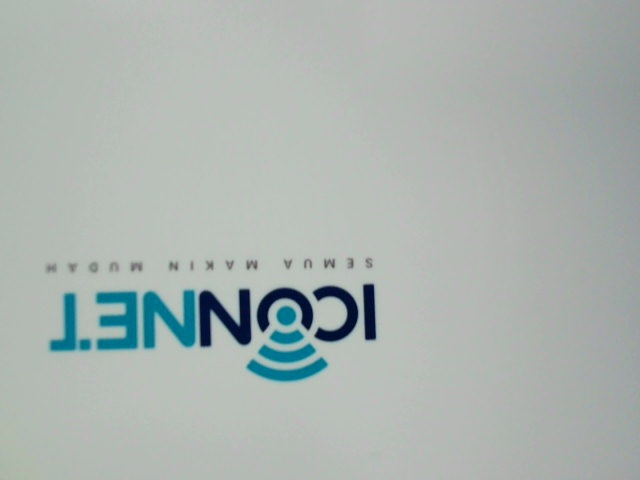BM_ICONNET: (31, 245, 399, 391)
